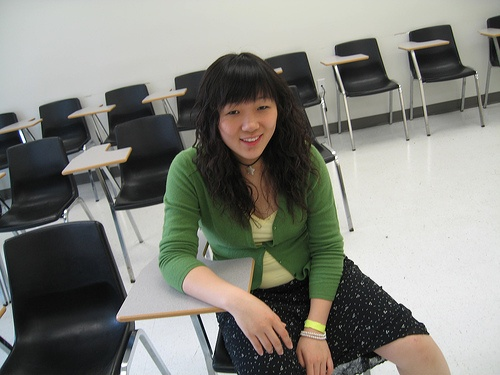head: (208, 54, 287, 164)
person: (147, 54, 472, 367)
